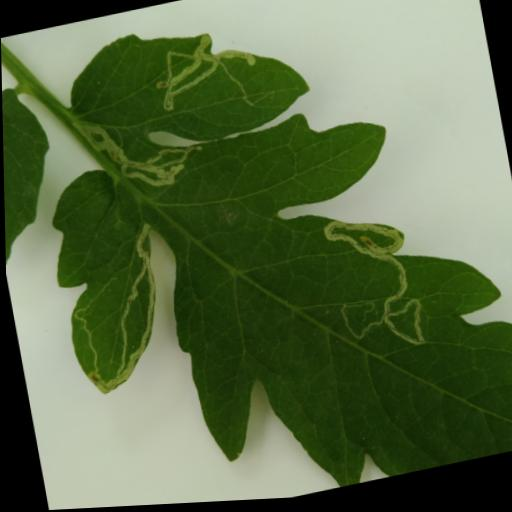Leaf_Miner: (14, 0, 512, 511)
